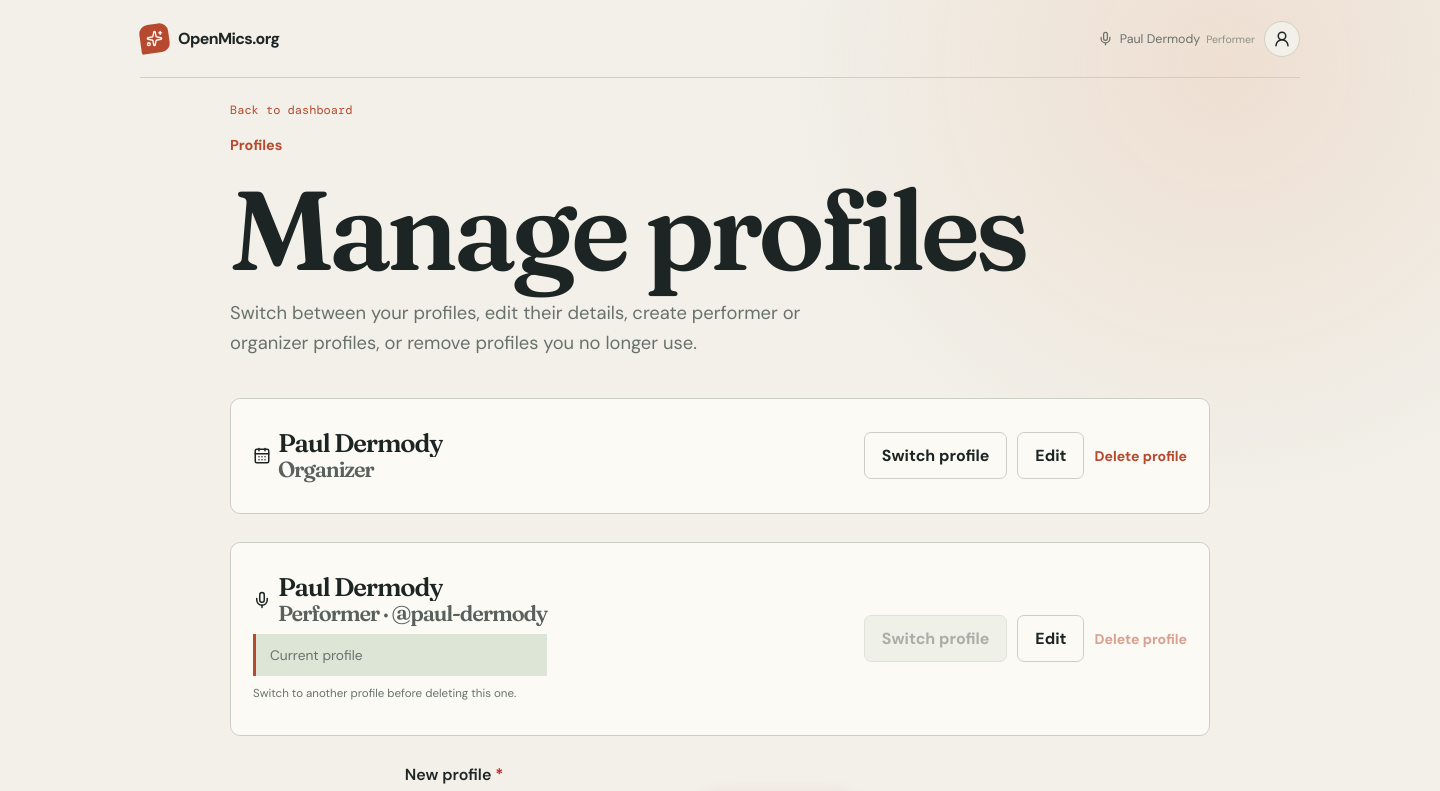
Test: profile deletion guards in Manage Profiles › warns that open mics and events go with an organizer profile
What coordinates should you click on to do the following:
click the 1st button "Delete profile"
I would click on:
 (1141, 456)
Its box is [1094, 432, 1187, 479].
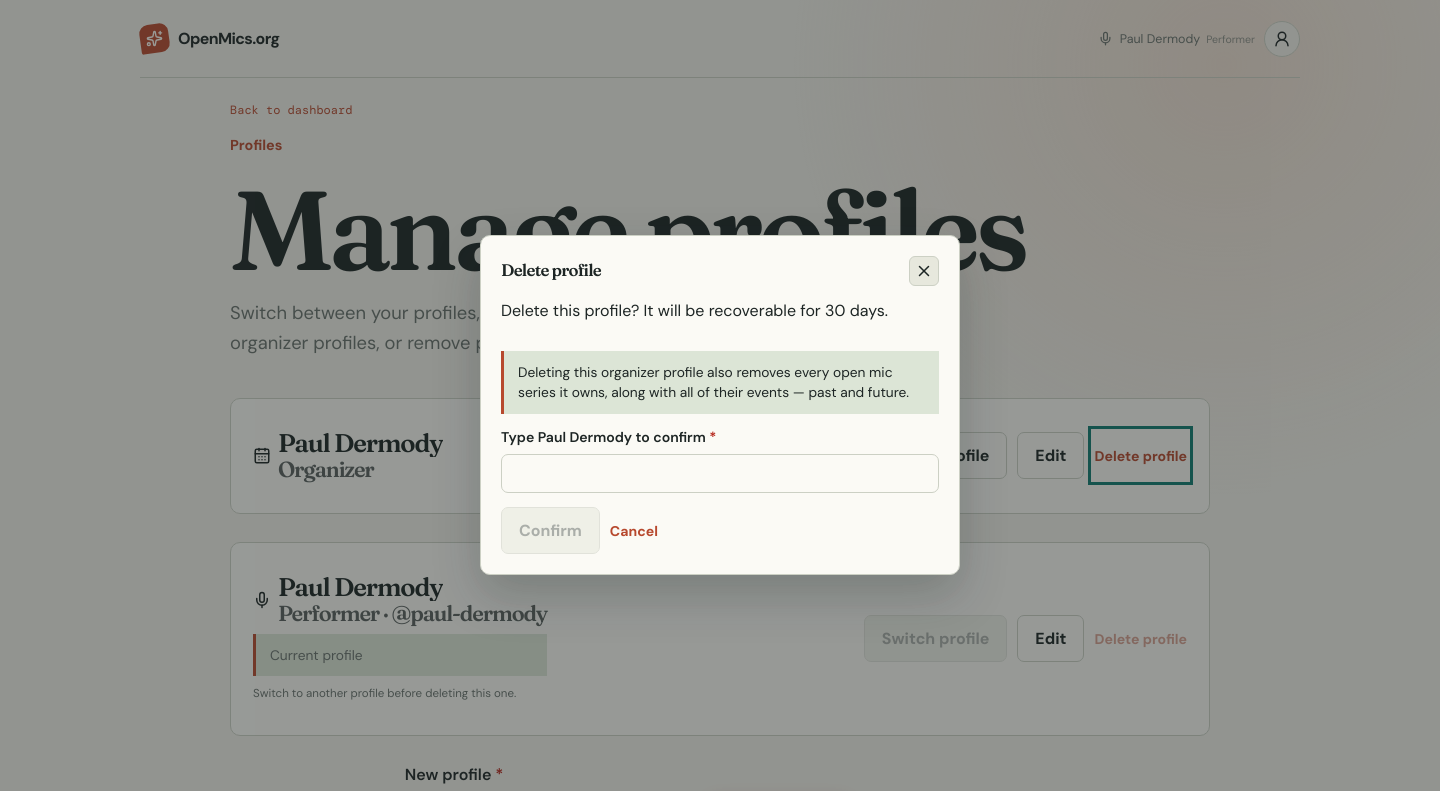
Now the text "removes every open mic series it owns" is shown, box [518, 362, 909, 400]
